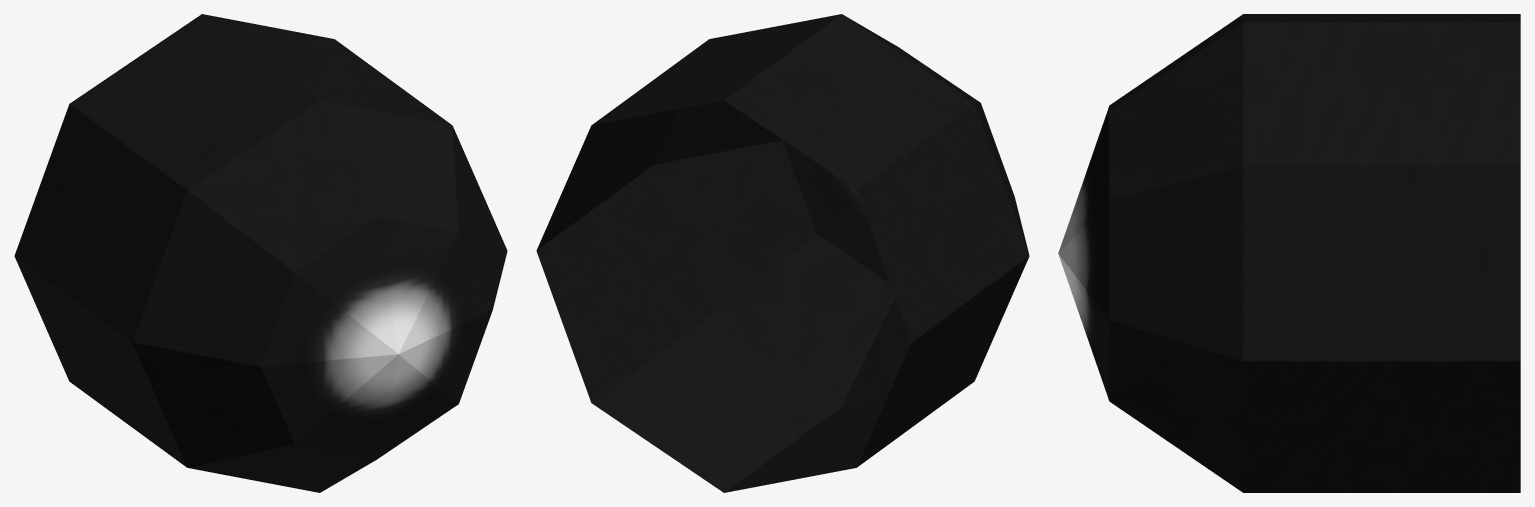
The model's file is LaserEmitter.fbx.
3 renders of one model, left to right at view 1: azimuth 30°, elevation 25°; view 2: azimuth 150°, elevation 25°; view 3: azimuth 270°, elevation 25°, orthographic. The views are drawn at different scales.
Visible parts, largest first — view 1: pSphere1; view 2: pSphere1; view 3: pSphere1.
Part boxes in pixels (<box>): pSphere1: <box>14,14,507,492</box>; pSphere1: <box>536,14,1029,492</box>; pSphere1: <box>1058,14,1520,492</box>.
Bounding box in the file's own units: 3.34 × 3.34 × 3.03.
Materials: 1 (1 with a texture image).
